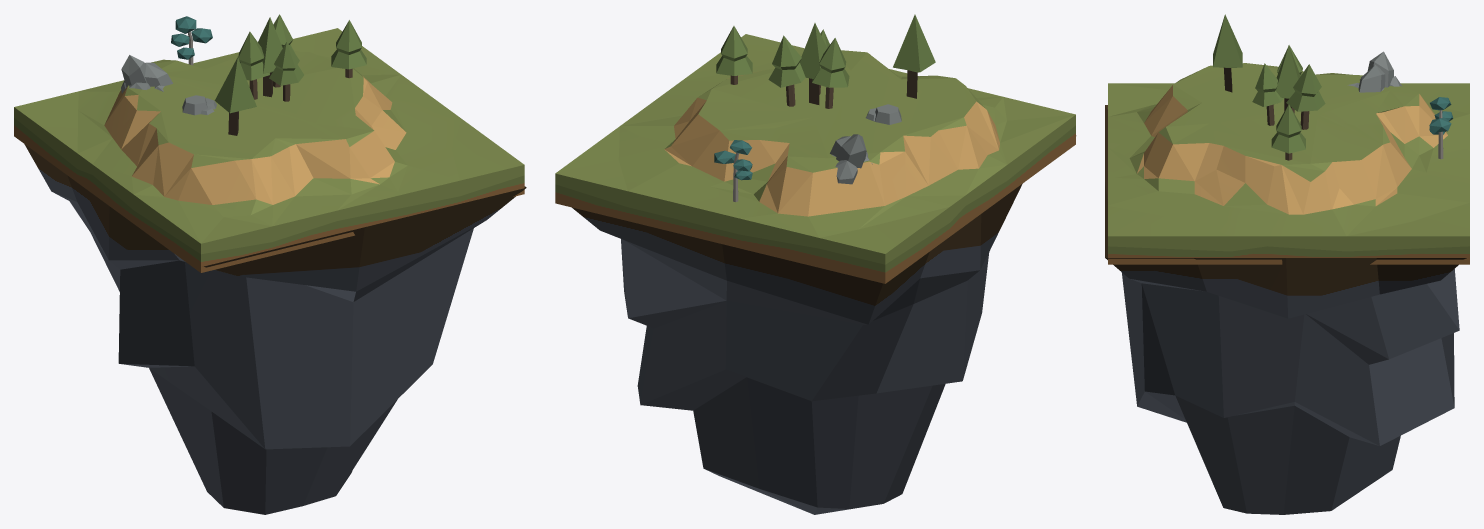
The picture shows the model from 3 angles, left to right: view 1: azimuth 30°, elevation 25°; view 2: azimuth 150°, elevation 25°; view 3: azimuth 270°, elevation 25°; orthographic projection. The views are drawn at different scales.
Visible parts, largest first — view 1: SM_Tile_Cube_FloatingIsland_01, SM_Tile_Cube_Hill_02, SM_Env_Generic_Tree_03, SM_Env_Generic_Tree_07__1_, SM_Env_Generic_Rock_05, SM_Env_Generic_Tree_01, SM_Env_Generic_Tree_Birch_01, SM_Env_Generic_Tree_07; view 2: SM_Tile_Cube_FloatingIsland_01, SM_Tile_Cube_Hill_02, SM_Env_Generic_Tree_03, SM_Env_Generic_Tree_07__1_, SM_Env_Generic_Rock_05, SM_Env_Generic_Tree_01, SM_Env_Generic_Tree_07, SM_Env_Generic_Tree_Birch_01; view 3: SM_Tile_Cube_FloatingIsland_01, SM_Tile_Cube_Hill_02, SM_Env_Generic_Tree_03, SM_Env_Generic_Tree_07__1_, SM_Env_Generic_Tree_01, SM_Env_Generic_Rock_05, SM_Env_Generic_Tree_07, SM_Env_Generic_Tree_Birch_01.
Part boxes in pixels (x1,y1,x2,y2): SM_Tile_Cube_FloatingIsland_01: (24,144,526,514); SM_Tile_Cube_Hill_02: (14,28,524,272); SM_Env_Generic_Tree_03: (238,14,303,101); SM_Env_Generic_Tree_07__1_: (214,57,256,135); SM_Env_Generic_Rock_05: (121,55,172,93); SM_Env_Generic_Tree_01: (331,20,366,78); SM_Env_Generic_Tree_Birch_01: (171,16,212,65); SM_Env_Generic_Tree_07: (258,17,282,97); SM_Tile_Cube_FloatingIsland_01: (572,135,1076,514); SM_Tile_Cube_Hill_02: (555,34,1075,283); SM_Env_Generic_Tree_03: (768,29,849,108); SM_Env_Generic_Tree_07__1_: (893,14,935,98); SM_Env_Generic_Rock_05: (830,134,872,184); SM_Env_Generic_Tree_01: (716,26,752,84); SM_Env_Generic_Tree_07: (800,23,827,104); SM_Env_Generic_Tree_Birch_01: (714,140,752,202); SM_Tile_Cube_FloatingIsland_01: (1105,105,1466,514); SM_Tile_Cube_Hill_02: (1108,63,1469,264); SM_Env_Generic_Tree_03: (1252,45,1325,129); SM_Env_Generic_Tree_07__1_: (1213,14,1242,92); SM_Env_Generic_Tree_01: (1271,104,1305,160); SM_Env_Generic_Rock_05: (1347,51,1402,92); SM_Env_Generic_Tree_07: (1276,45,1300,111); SM_Env_Generic_Tree_Birch_01: (1429,97,1453,159).
Bounding box in the file's own units: 5.01 × 7.13 × 5.04.
8 materials, 8 textured.
